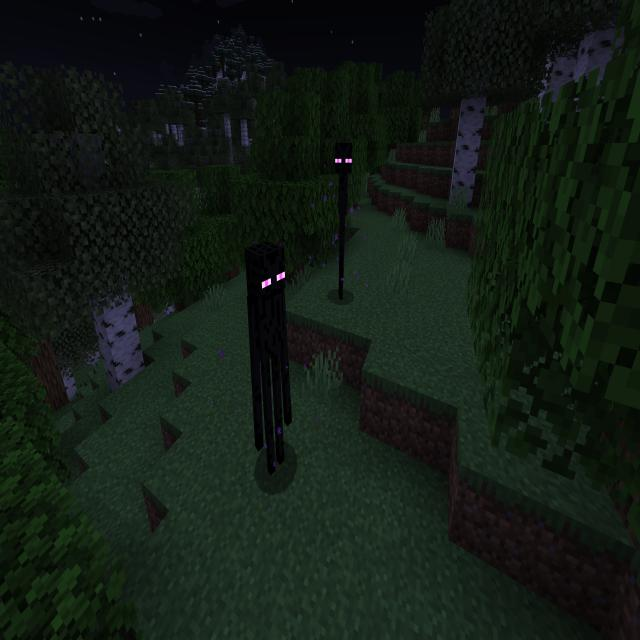Enderman: (243, 236, 294, 481), (331, 138, 355, 304)
